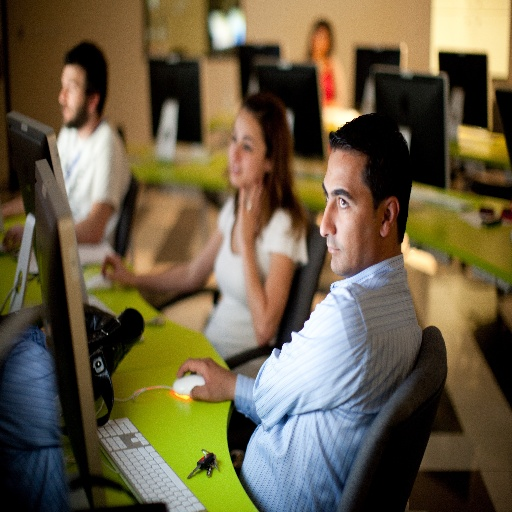hand: (170, 362, 231, 416), (233, 180, 262, 245), (101, 251, 134, 286), (2, 225, 24, 251)
